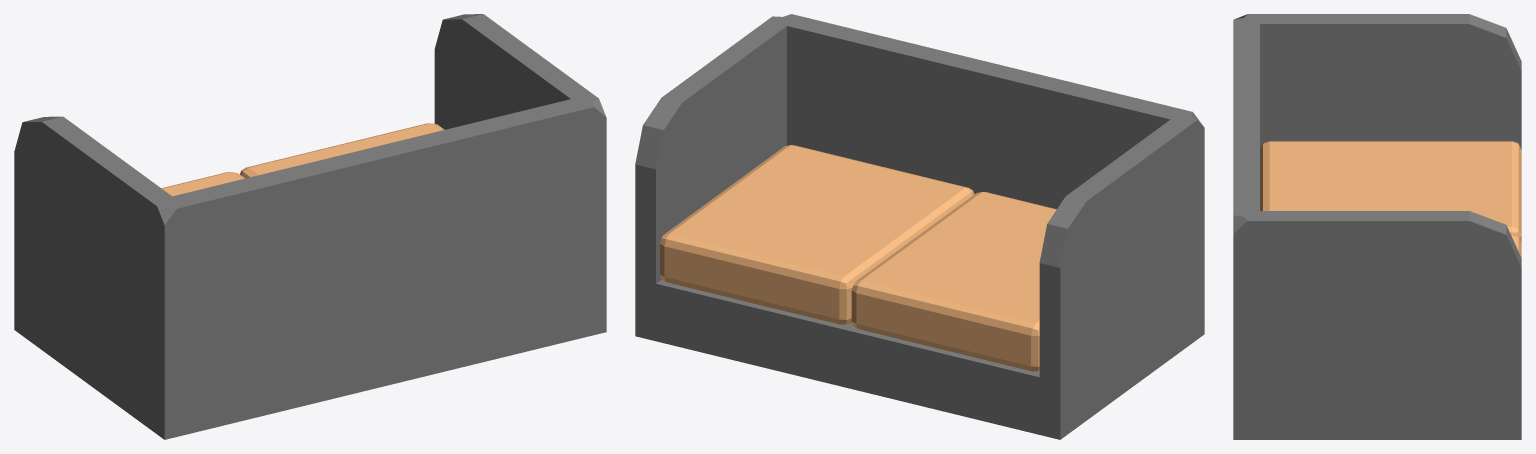
Rendered from Sofa_12.fbx.
3 renders of one model, left to right at view 1: azimuth 30°, elevation 25°; view 2: azimuth 150°, elevation 25°; view 3: azimuth 270°, elevation 25°, orthographic. The views are drawn at different scales.
Visible parts, largest first — view 1: Sofa_12; view 2: Sofa_12; view 3: Sofa_12.
Part boxes in pixels (x1=…): Sofa_12: x1=14, y1=14, x2=606, y2=439; Sofa_12: x1=635, y1=14, x2=1204, y2=439; Sofa_12: x1=1233, y1=14, x2=1521, y2=439.
Bounding box in the file's own units: 1.41 × 0.6948 × 0.829.
